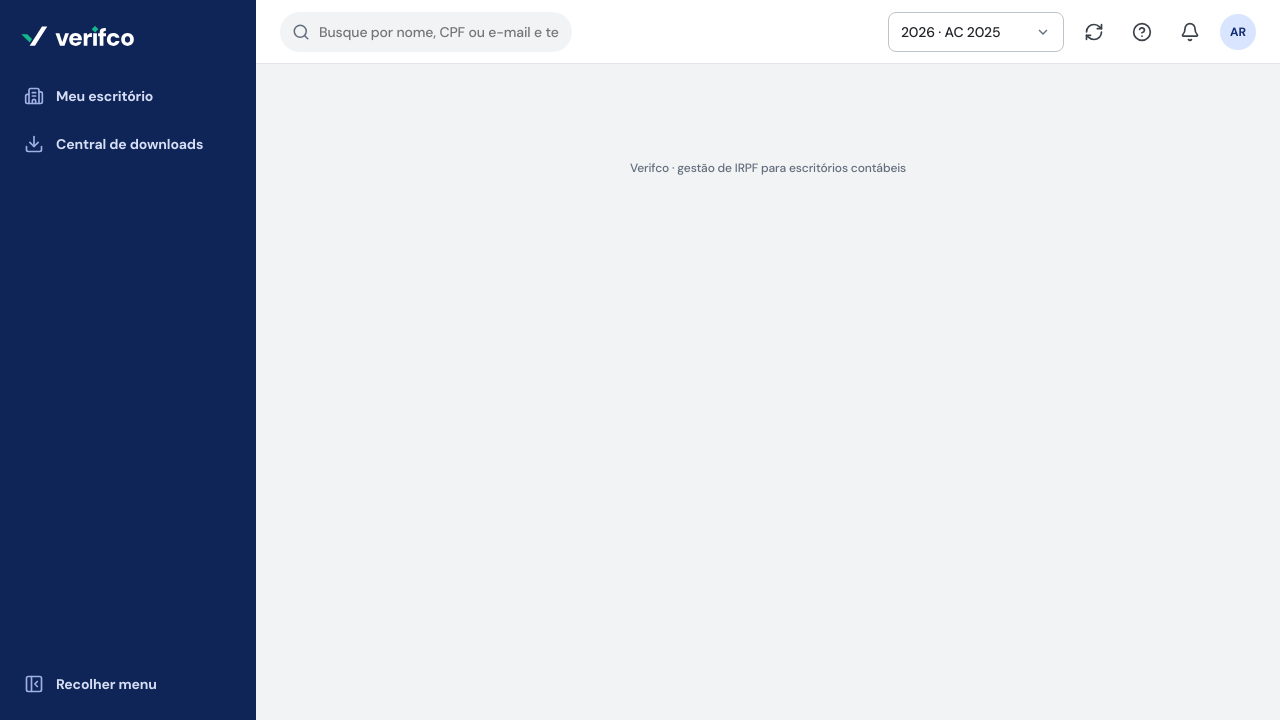
Test: Shell › com ecac.sync sincroniza o escritório pela barra superior, depois de confirmar
This screenshot has width=1280, height=720.
Click the button named "Sincronizar eCAC": (1094, 32) [1076,14,1112,50]
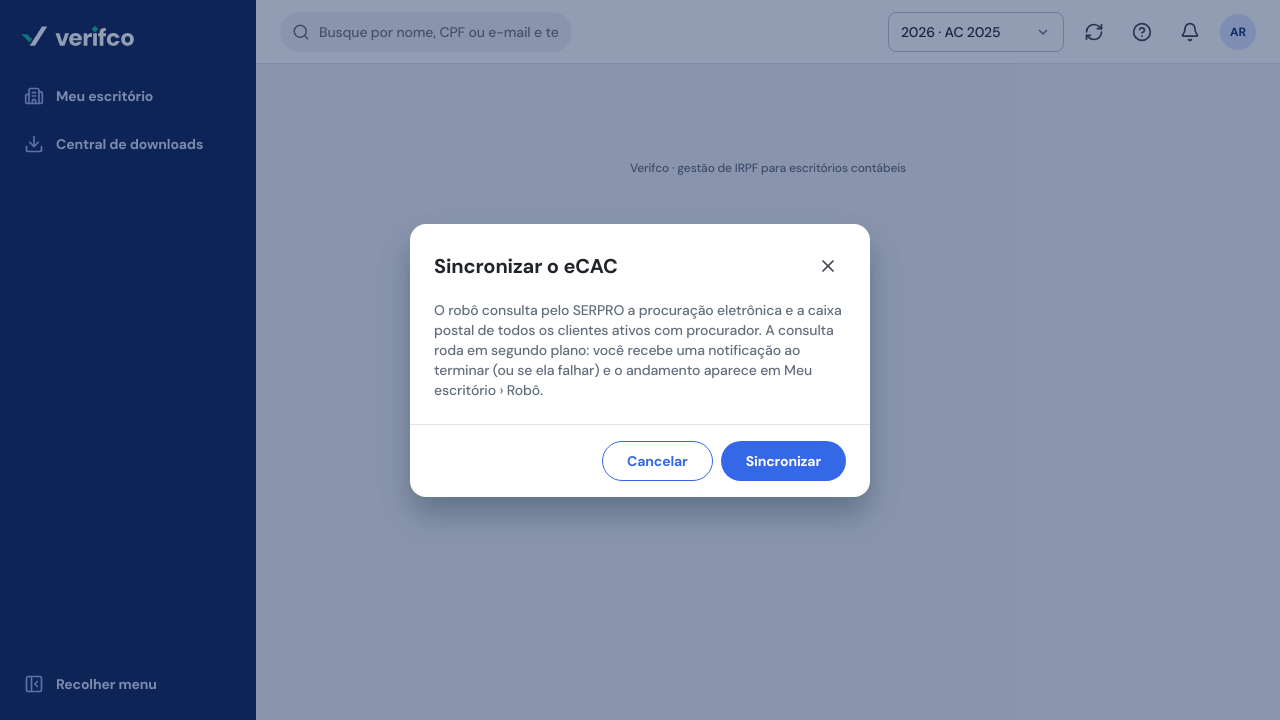
Expected: the text "clientes ativos com procurador" is shown, [434,300,842,398]
Click the button "Sincronizar": (783, 460) [721,440,846,480]
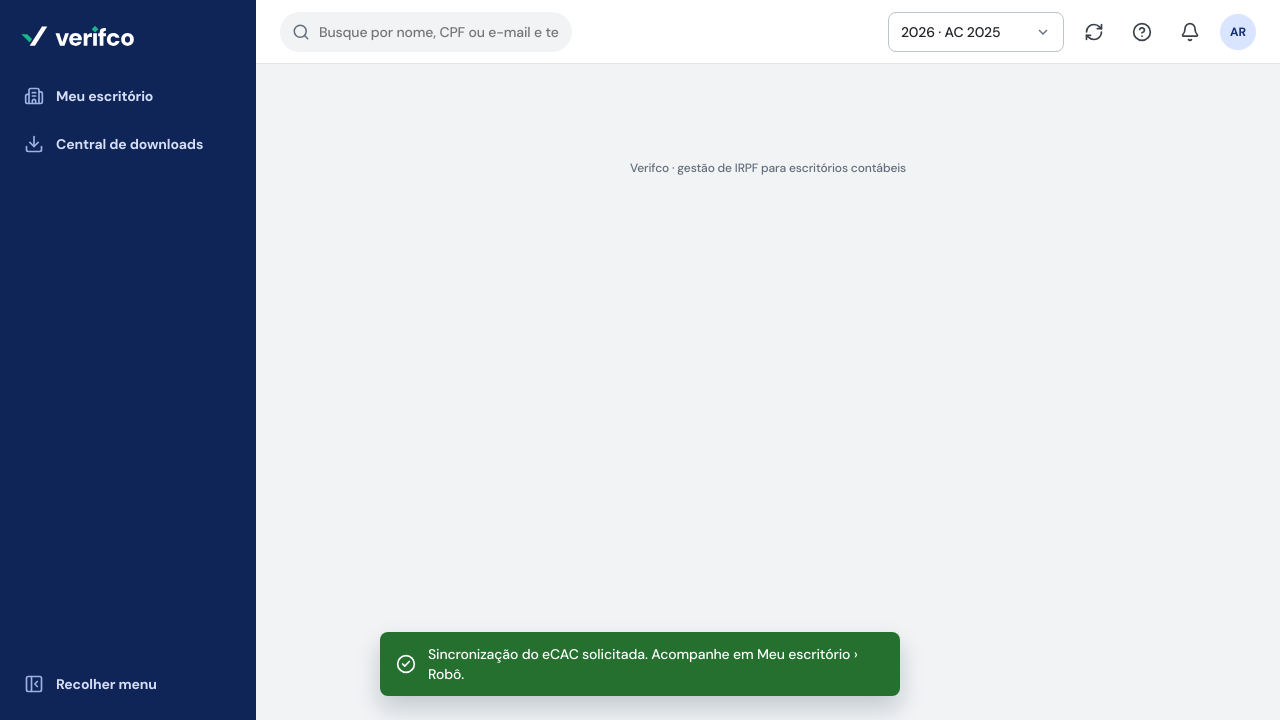
Expected: the text "Sincronização do eCAC solicitada" is shown, [428,645,858,683]
